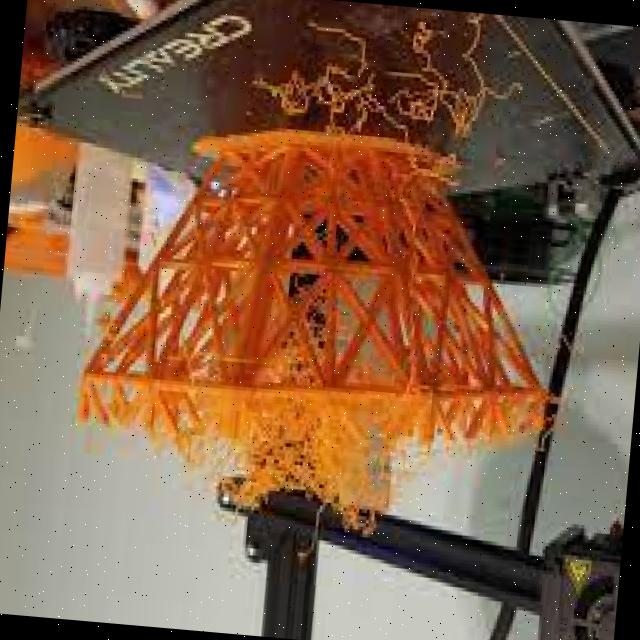spaghetti: (276, 12, 506, 195), (170, 414, 464, 536), (250, 322, 332, 384), (456, 385, 534, 446)
